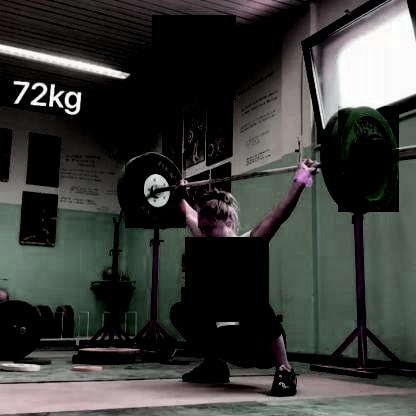barbell: (339, 106, 399, 212), (125, 154, 186, 229)
